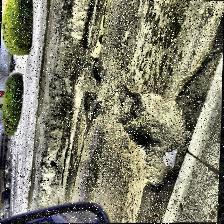pothole: (116, 81, 176, 149), (87, 52, 105, 83)
